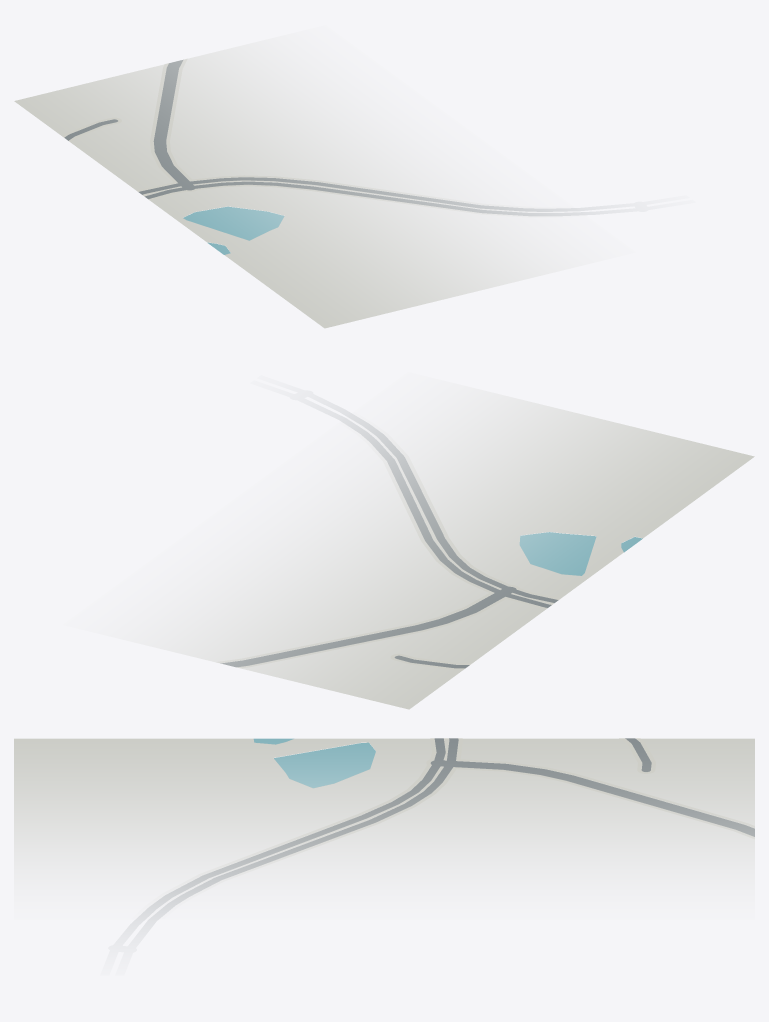
3 views of the same model, one above another, from view 1: azimuth 30°, elevation 25°; view 2: azimuth 150°, elevation 25°; view 3: azimuth 270°, elevation 25° (orthographic). The views are drawn at different scales.
Visible parts, largest first — view 1: city; view 2: city; view 3: city.
Boxes of the visible parts, x1=… form: city: x1=14, y1=41, x2=605, y2=328; city: x1=134, y1=390, x2=754, y2=709; city: x1=14, y1=738, x2=754, y2=929.
Size of the model in its own units: 430 by 0.4 by 500.
